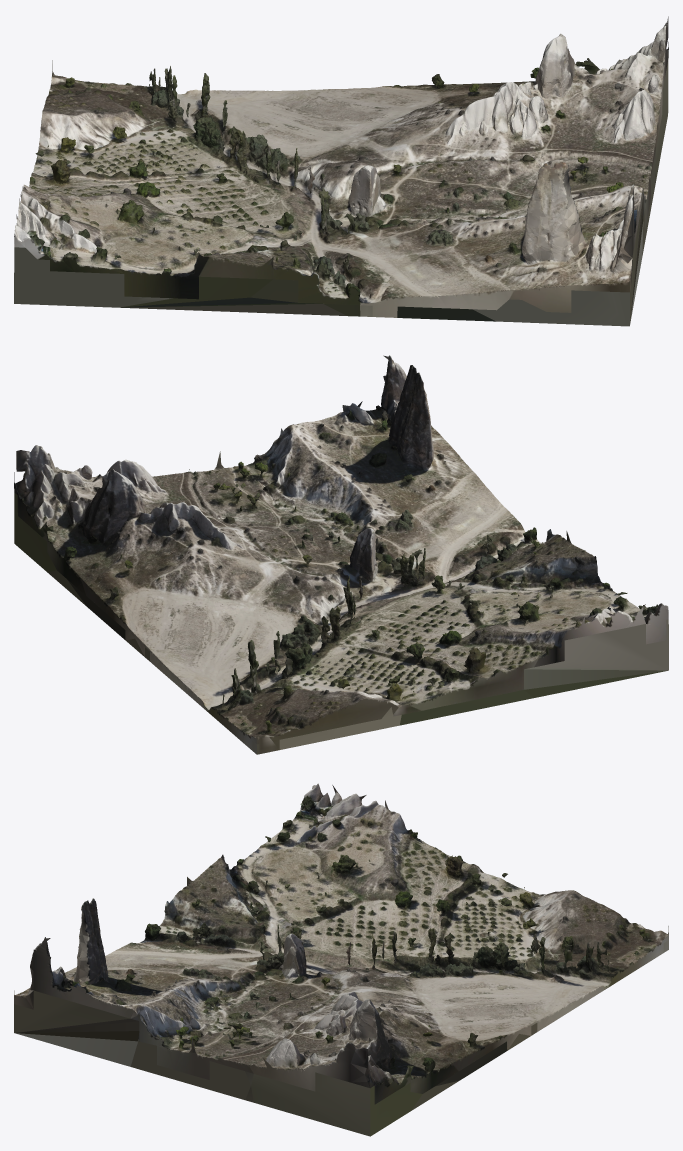
Rendered from zindanonu_duz2.glb.
3 views of the same model, one above another, from view 1: azimuth 30°, elevation 25°; view 2: azimuth 150°, elevation 25°; view 3: azimuth 270°, elevation 25° (orthographic). The views are drawn at different scales.
Parts seen in each view (by area): view 1: Mesh_0_Part_0; view 2: Mesh_0_Part_0; view 3: Mesh_0_Part_0.
Boxes of the visible parts, x1=… form: Mesh_0_Part_0: x1=14, y1=16, x2=668, y2=326; Mesh_0_Part_0: x1=14, y1=355, x2=668, y2=754; Mesh_0_Part_0: x1=14, y1=783, x2=668, y2=1136.
Bounding box in the file's own units: 277 × 54.4 × 267.
2 materials, 1 textured.
